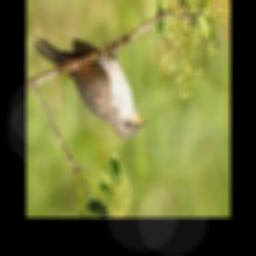Cuckoo: (33, 39, 148, 140)
